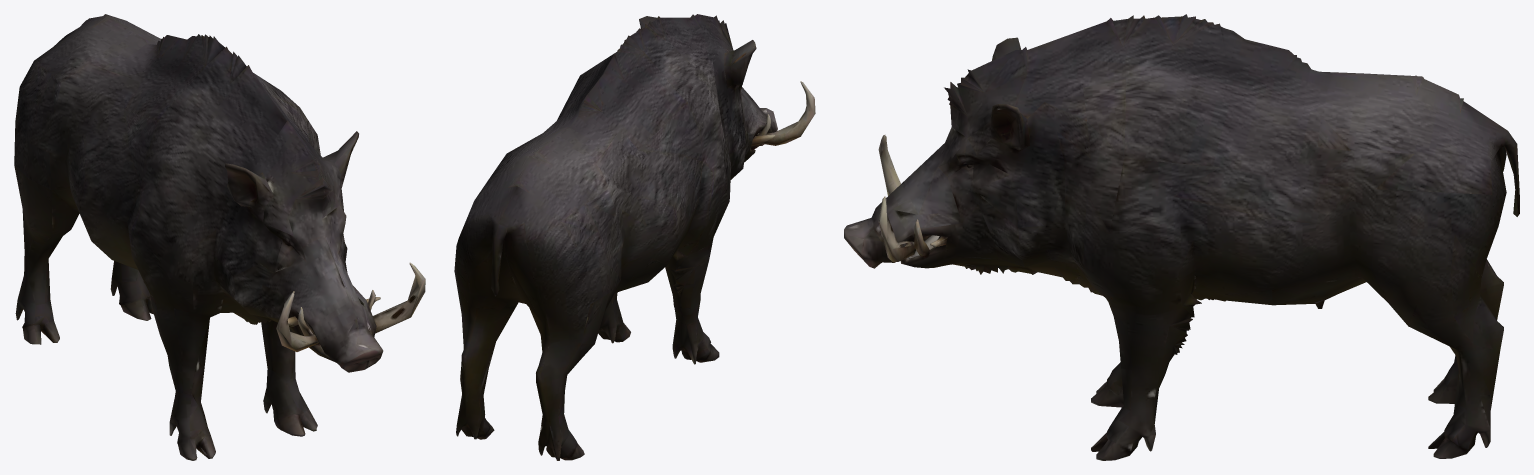
File: ariete_javali_lod.glb
The picture shows the model from 3 angles, left to right: view 1: azimuth 30°, elevation 25°; view 2: azimuth 150°, elevation 25°; view 3: azimuth 270°, elevation 25°; orthographic projection. The views are drawn at different scales.
Visible parts, largest first — view 1: Aríete da onda; view 2: Aríete da onda; view 3: Aríete da onda.
Part boxes in pixels (left/top/right/bottom): Aríete da onda: left=14, top=14, right=425, bottom=460; Aríete da onda: left=454, top=14, right=815, bottom=460; Aríete da onda: left=844, top=14, right=1519, bottom=460.
Bounding box in the file's own units: 0.3496 × 0.6699 × 0.9941.
1 material, 1 textured.
